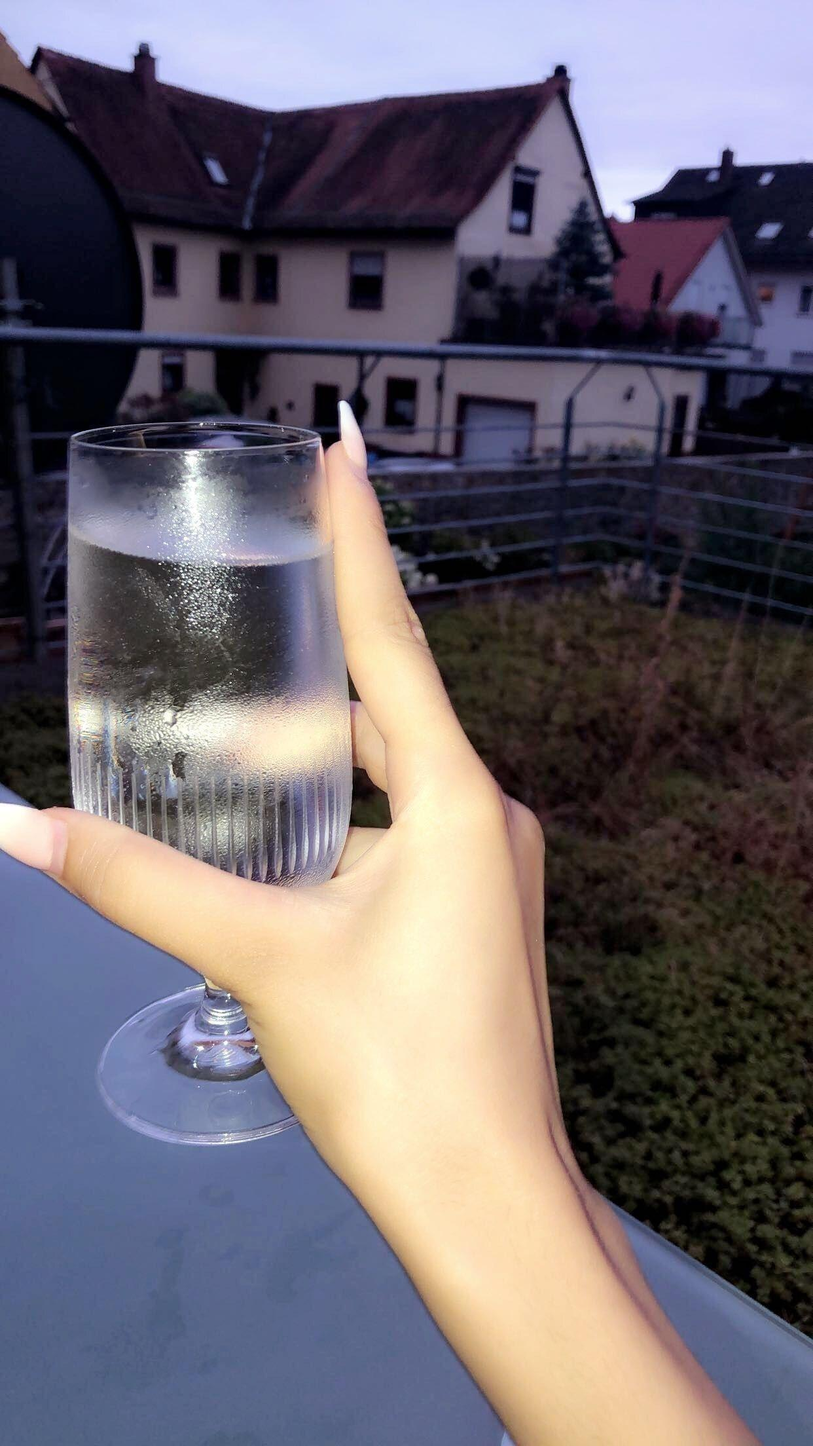glass-wine: (58, 418, 360, 1151)
